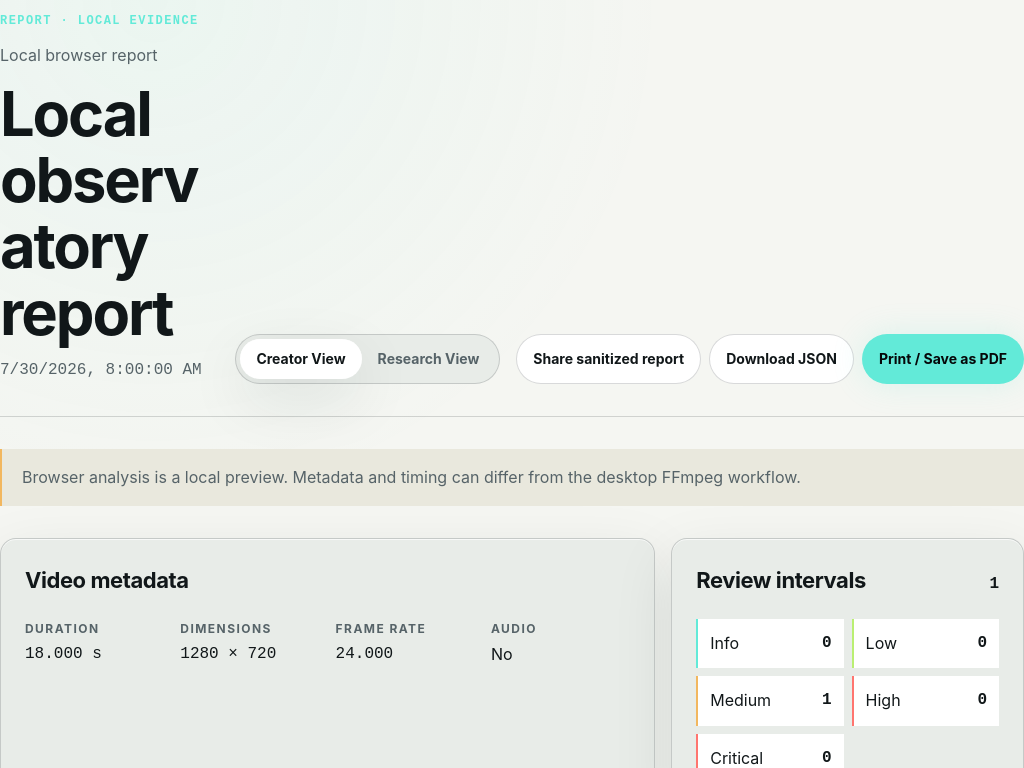
Test: ReportPage › opens the explicit sanitized sharing consent from report actions
The image size is (1024, 768).
Click the button "Share sanitized report". click: click(609, 359)
box: [516,334,701,384]
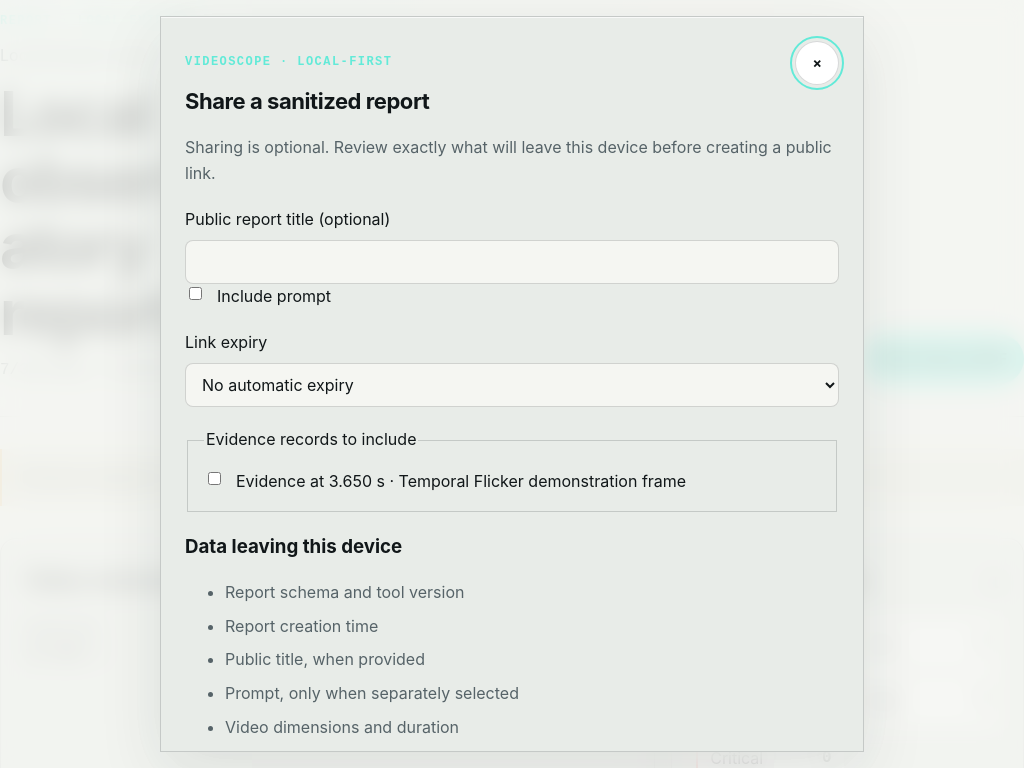
expect the dialog "Share a sanitized report" is shown: met
